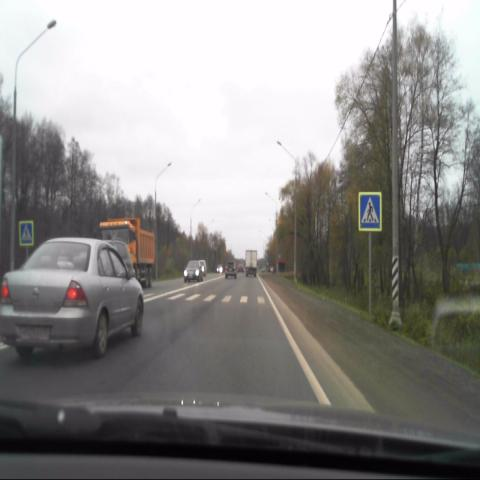5_19_1: (359, 190, 382, 230), (19, 220, 34, 244)
